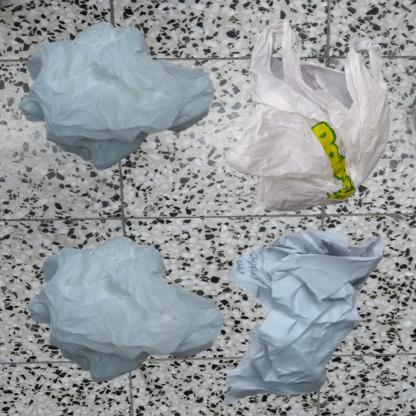bolsa: (10, 213, 265, 416), (213, 10, 416, 252), (10, 10, 233, 193)
papel: (213, 213, 390, 416)
